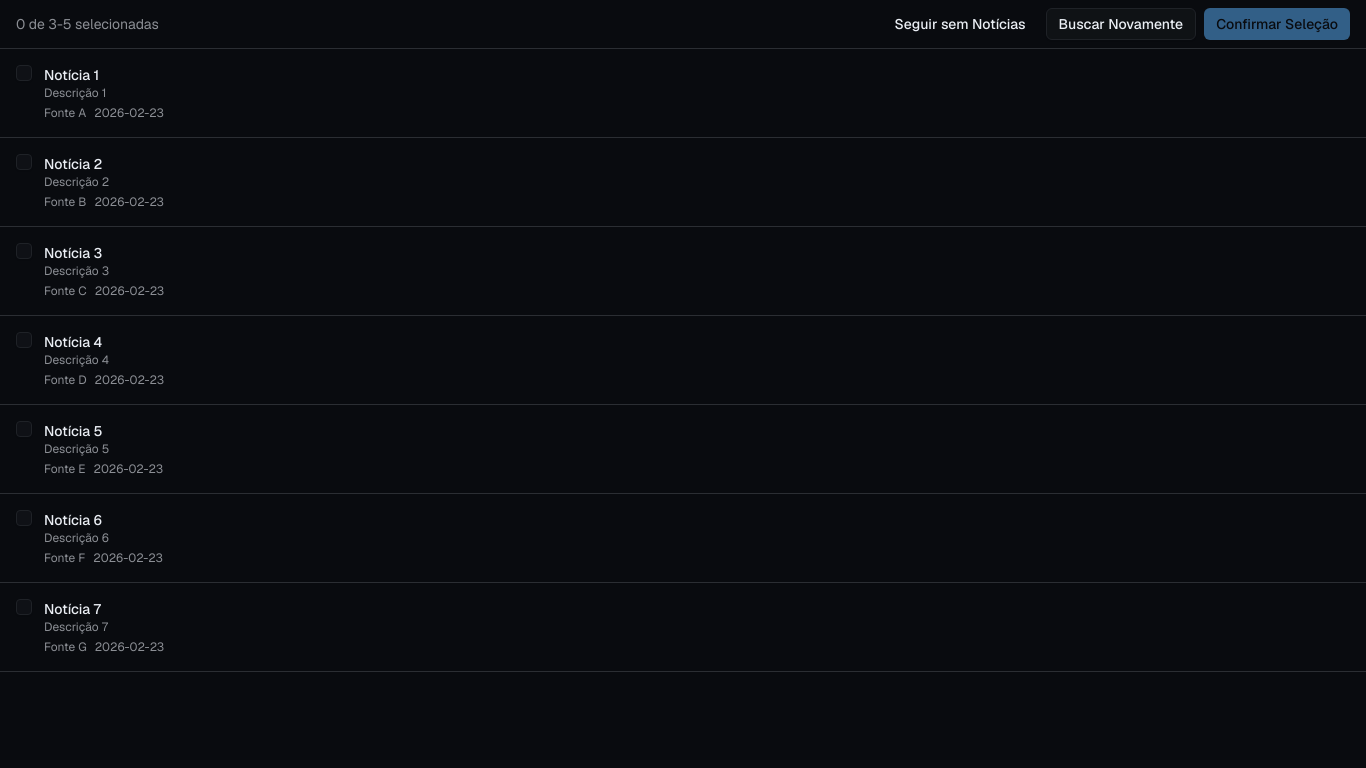
Test case: NewsletterNewsPhase › contador atualiza ao selecionar/desselecionar
// Select first 3
Click the checkbox named "Selecionar Notícia 1". click: (24, 73)
box: [16, 65, 32, 81]
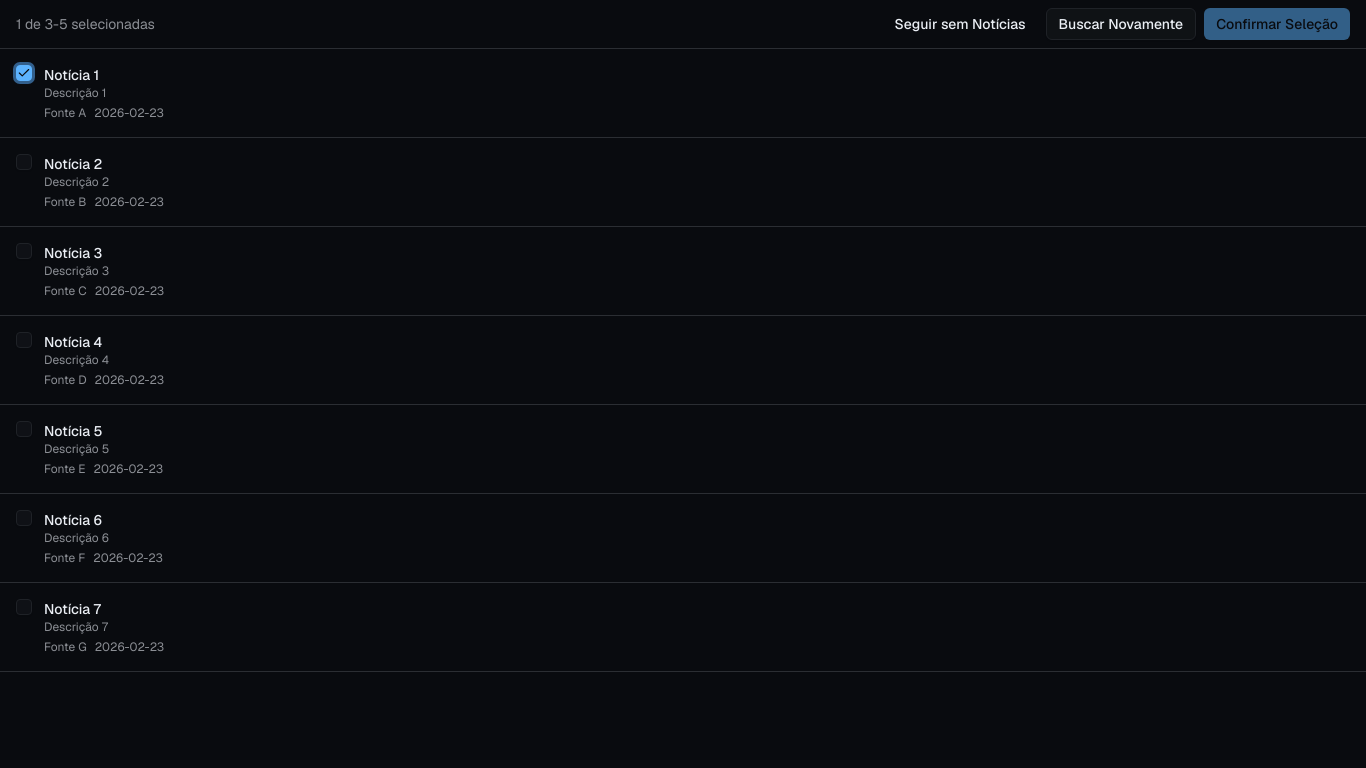
Click the checkbox named "Selecionar Notícia 2". click: (24, 162)
box: [16, 154, 32, 170]
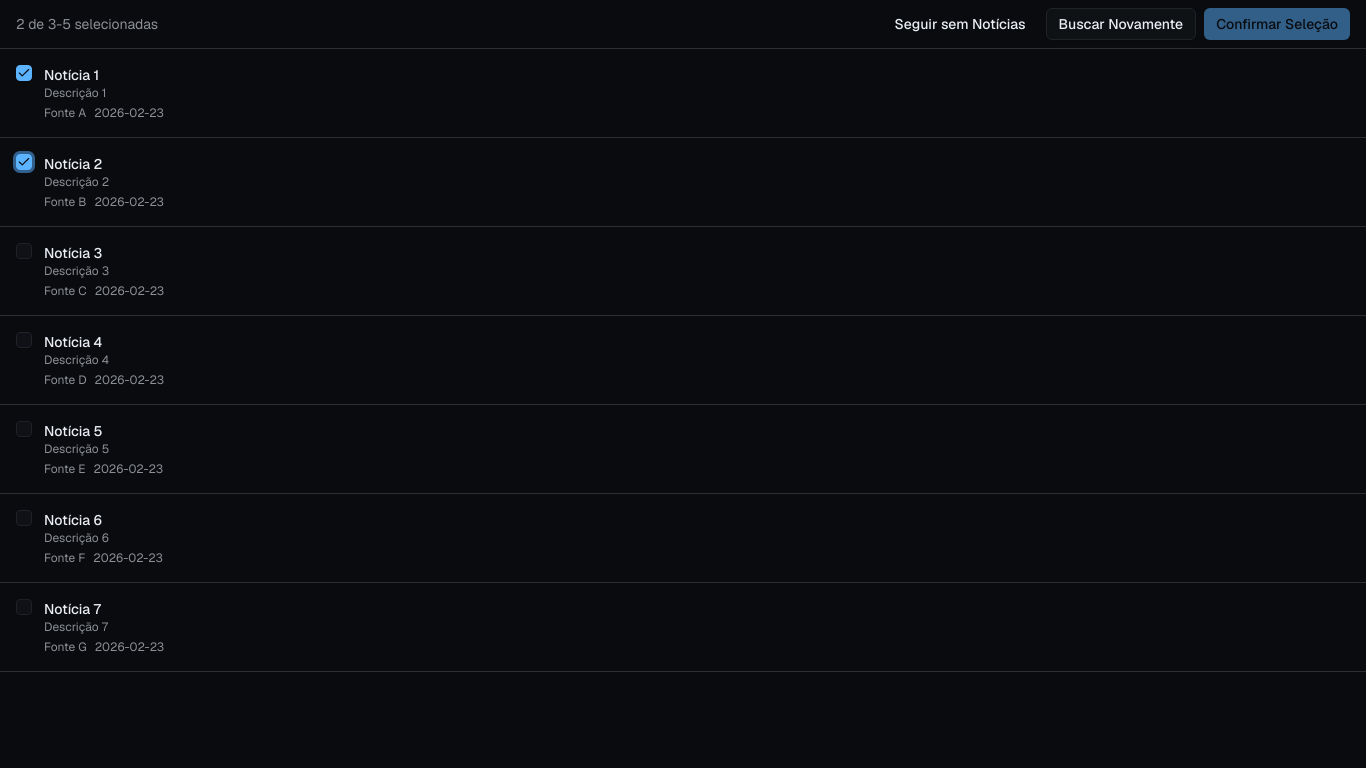
Click the checkbox named "Selecionar Notícia 3". click: (24, 251)
box: [16, 243, 32, 259]
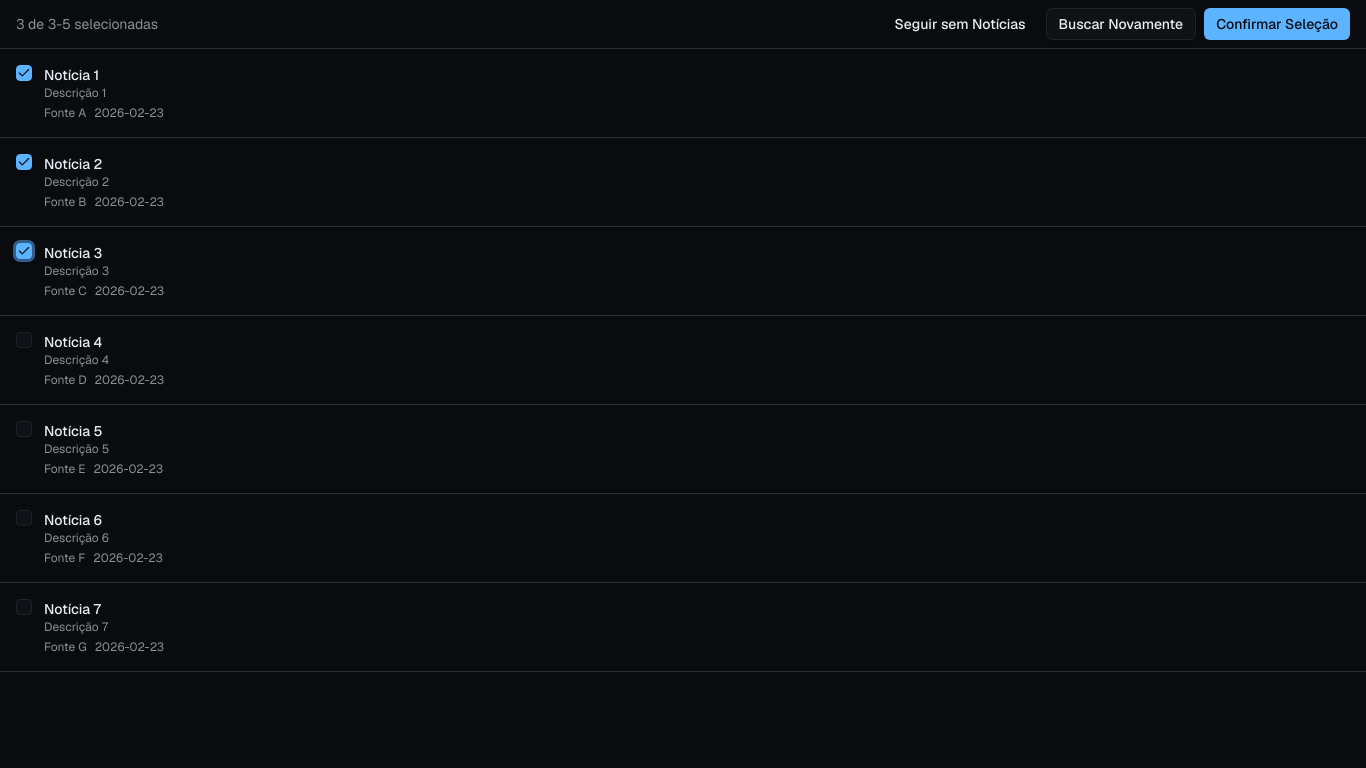
Now the text "3 de 3-5 selecionadas" is shown, box [16, 14, 158, 34]
// Deselect one
Click the checkbox named "Selecionar Notícia 1". click: (24, 73)
box: [16, 65, 32, 81]
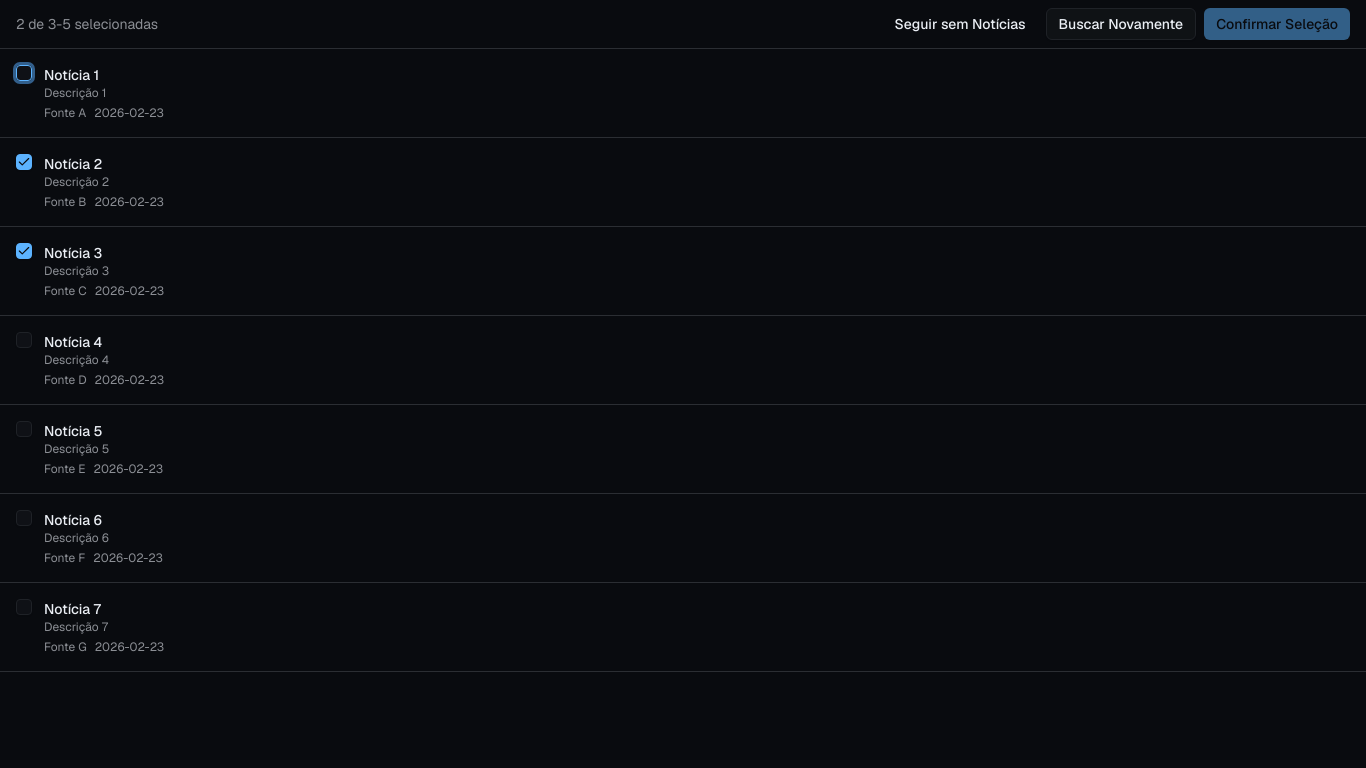
Now the text "2 de 3-5 selecionadas" is shown, box [16, 14, 158, 34]
